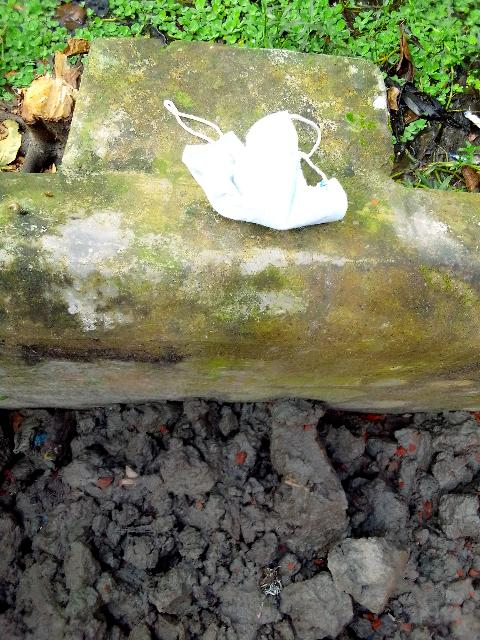mask: (179, 91, 351, 235)
